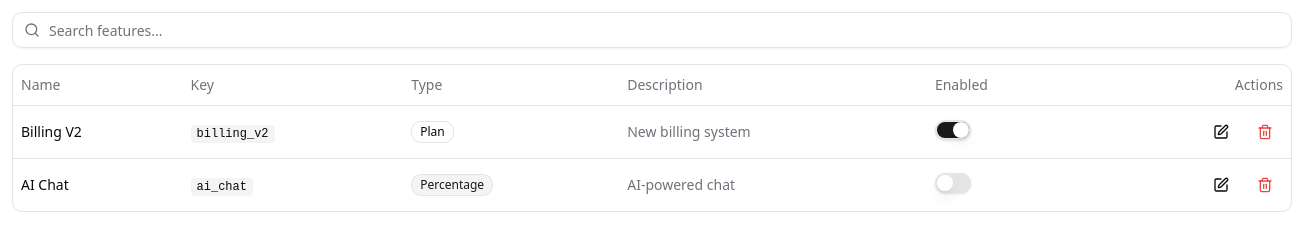
FeaturesList › searches by feature key
The image size is (1304, 229).
In the field with placeholder "Search features...": (652, 30) [12, 12, 1292, 48], type "ai_chat"
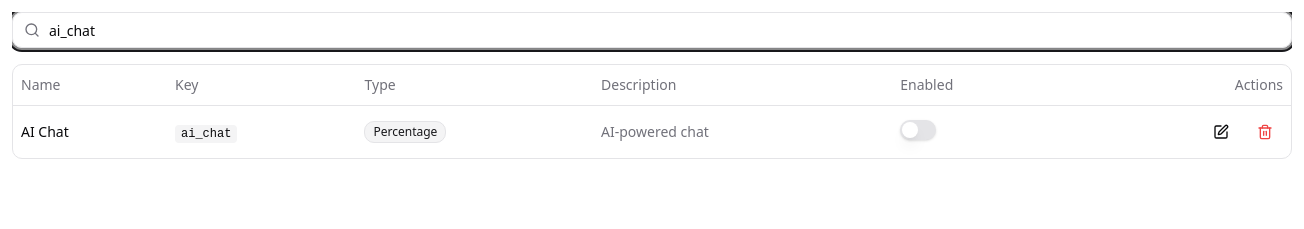
Expected: the text "AI Chat" is shown, [13, 105, 167, 158]
Now the text "Billing V2" is gone
